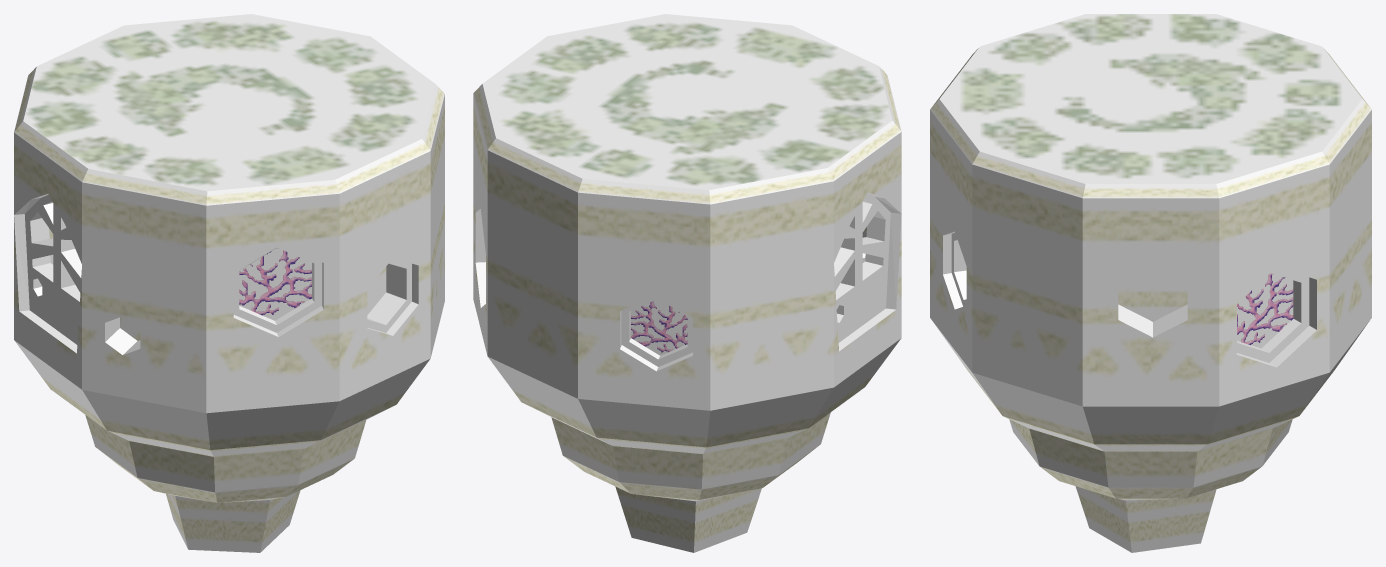
The model's file is ukisima_bake.dae.
3 renders of one model, left to right at view 1: azimuth 30°, elevation 25°; view 2: azimuth 150°, elevation 25°; view 3: azimuth 270°, elevation 25°, orthographic.
Parts seen in each view (by area): view 1: m0, m1, m3, m1_VC; view 2: m0, m1, m3, m1_VC; view 3: m0, m1, m3, m1_VC.
Boxes of the visible parts, x1,y1,x2,y2 form: m0: (14, 67, 444, 552); m1: (23, 14, 435, 315); m3: (14, 194, 418, 355); m1_VC: (239, 249, 311, 320); m0: (473, 66, 901, 552); m1: (482, 14, 892, 352); m3: (475, 192, 901, 371); m1_VC: (631, 299, 687, 355); m0: (930, 48, 1371, 552); m1: (939, 14, 1362, 344); m3: (943, 231, 1316, 367); m1_VC: (1237, 273, 1293, 348).
Bounding box in the file's own units: 802 × 904 × 844.
5 materials, 4 textured.
